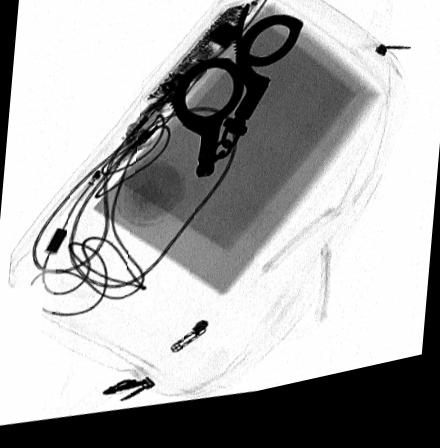HandCuffs: (167, 12, 304, 186)
